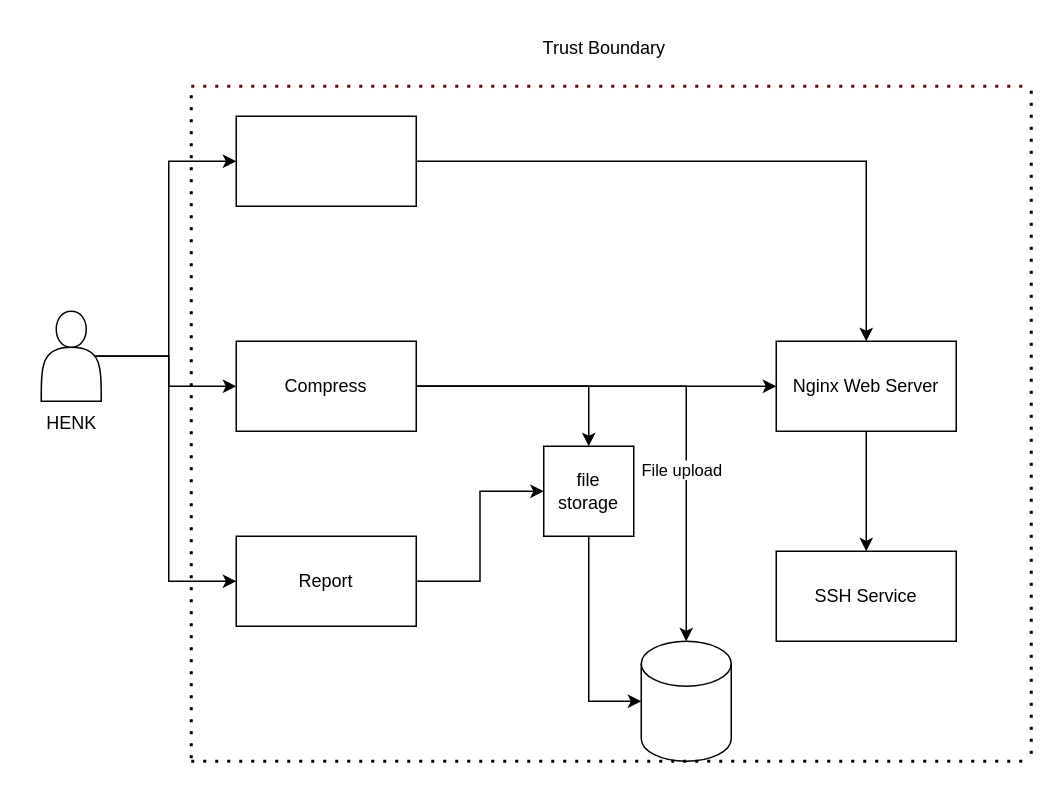
Some shapes in this 1059 by 789 pixel diagram are drawn without their labels. Here are the shapes that lost their labels. From the top down, the centre of each, then its label:
At point (325, 160): "Auth".
At point (685, 700): "DB".
